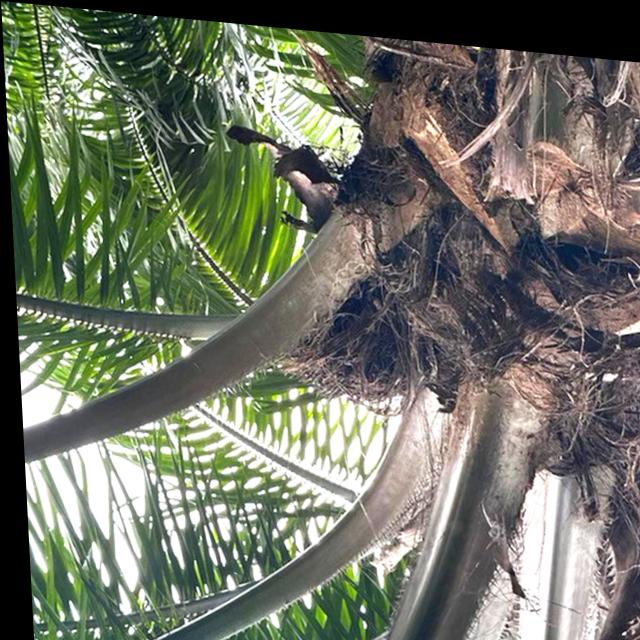unripe: (257, 249, 420, 415)
